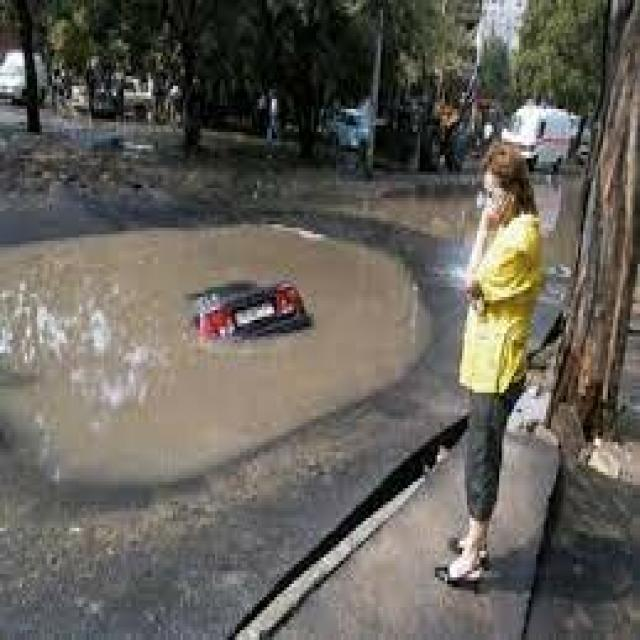Pothole: (2, 214, 448, 538)
